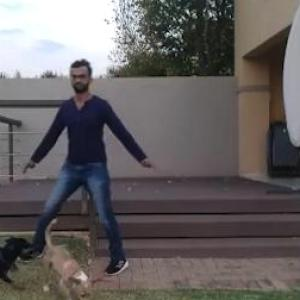land: (38, 76, 161, 278)
